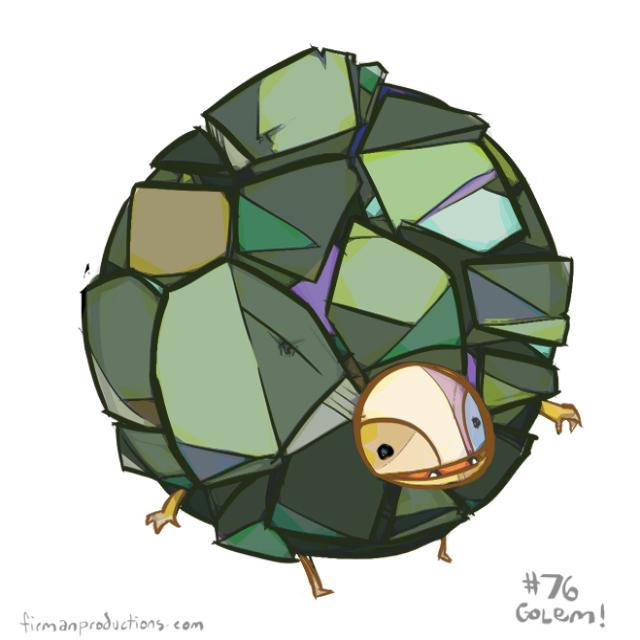Golem: (83, 46, 586, 584)
